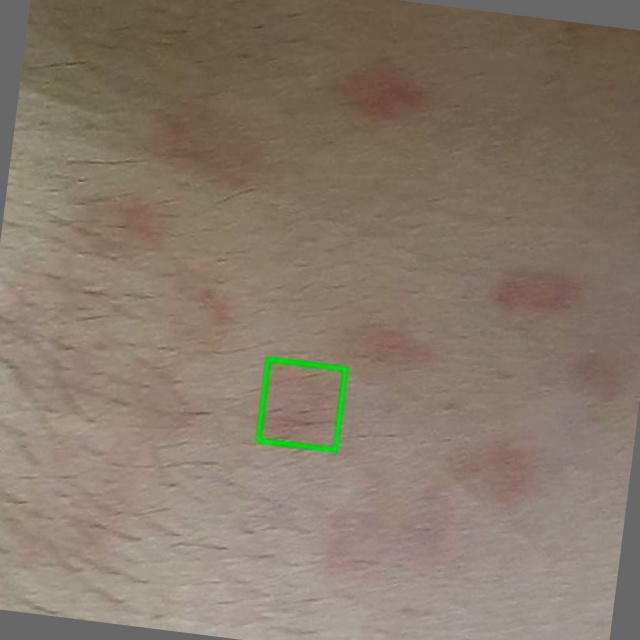Tinea Corporis: (258, 359, 345, 449)
